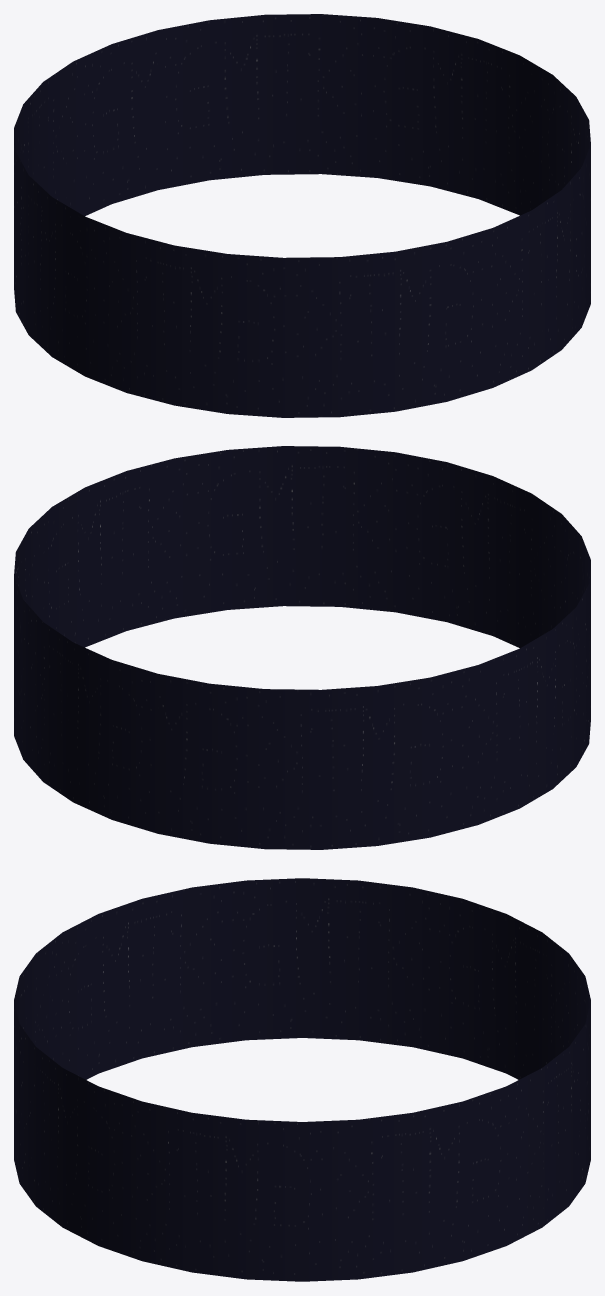
Rendered from spaceTorus.fbx.
3 views of the same model, one above another, from view 1: azimuth 30°, elevation 25°; view 2: azimuth 150°, elevation 25°; view 3: azimuth 270°, elevation 25° (orthographic).
Visible parts, largest first — view 1: Cylinder; view 2: Cylinder; view 3: Cylinder.
Boxes of the visible parts, left/top/right/bottom form: Cylinder: left=14, top=14, right=590, bottom=417; Cylinder: left=14, top=446, right=590, bottom=849; Cylinder: left=14, top=878, right=590, bottom=1281.
Bounding box in the file's own units: 200 × 61.1 × 200.
1 material, 1 textured.
